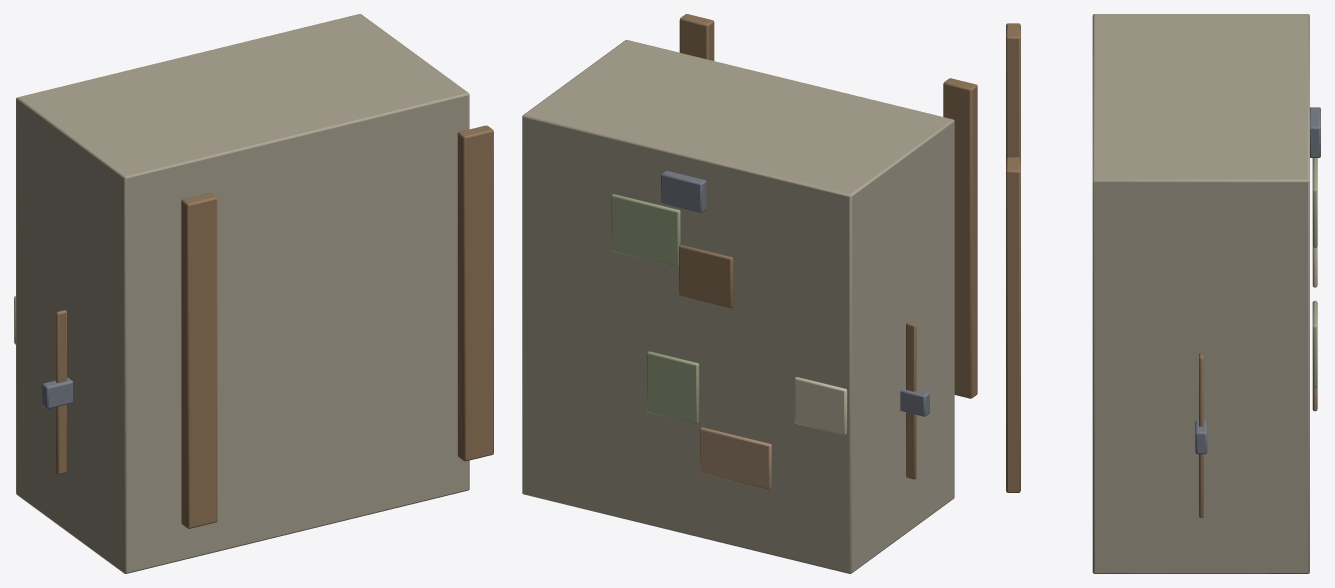
The model's file is SM_PACK_SCRAP_BACKPACK.fbx.
3 views of the same model, side by side, from view 1: azimuth 30°, elevation 25°; view 2: azimuth 150°, elevation 25°; view 3: azimuth 270°, elevation 25° (orthographic). The views are drawn at different scales.
Parts seen in each view (by area): view 1: SM_PACK_SCRAP_BACKPACK; view 2: SM_PACK_SCRAP_BACKPACK; view 3: SM_PACK_SCRAP_BACKPACK.
Boxes of the visible parts, bbox=[...] form: SM_PACK_SCRAP_BACKPACK: bbox=[14, 14, 493, 573]; SM_PACK_SCRAP_BACKPACK: bbox=[522, 14, 977, 573]; SM_PACK_SCRAP_BACKPACK: bbox=[1006, 14, 1320, 573].
Size of what is drawn, in the model's own units: 0.46 by 0.44 by 0.3185.
